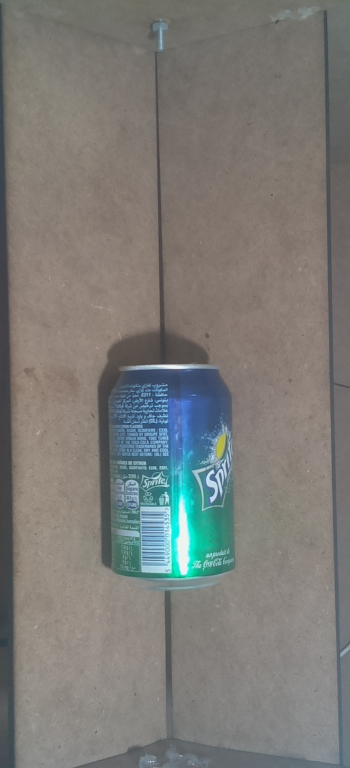Canette: (100, 357, 248, 597)
